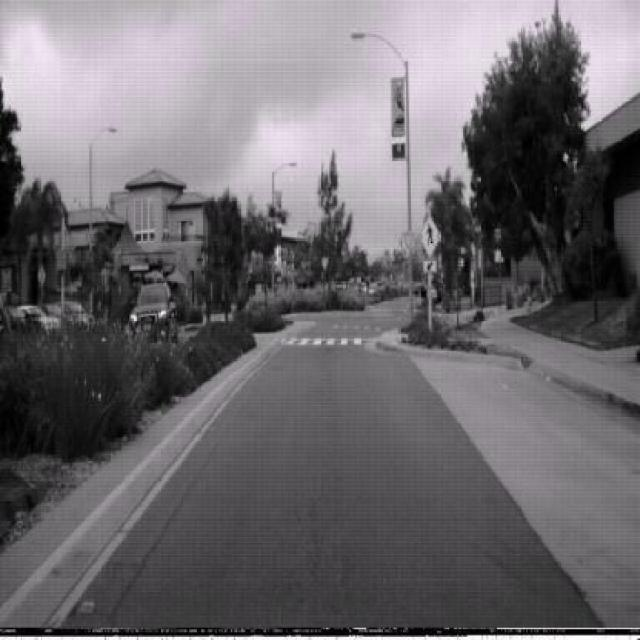pedestrianCrossing: (419, 212, 441, 258)
yield: (403, 231, 415, 251)
